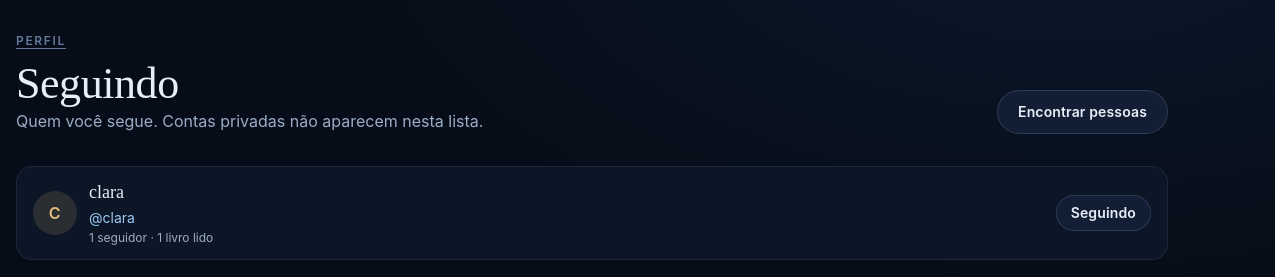
MyFollowsPage (/me/followers e /me/following) › seguindo: deixar de seguir mantém a pessoa na lista (dá para seguir de novo)
Expected: the heading "Seguindo" is shown, [16, 59, 179, 108]
Click the button with test id "follow-button" at (1103, 213), box [1056, 195, 1151, 231]
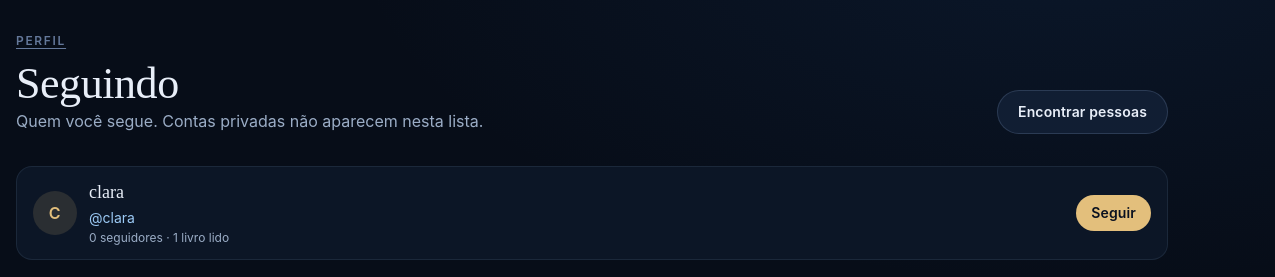
Expected: the number of elements with test id "person-card" is 1, [16, 166, 1168, 260]
Expected: the button with test id "follow-button" reads "Seguir", [1076, 195, 1151, 231]
